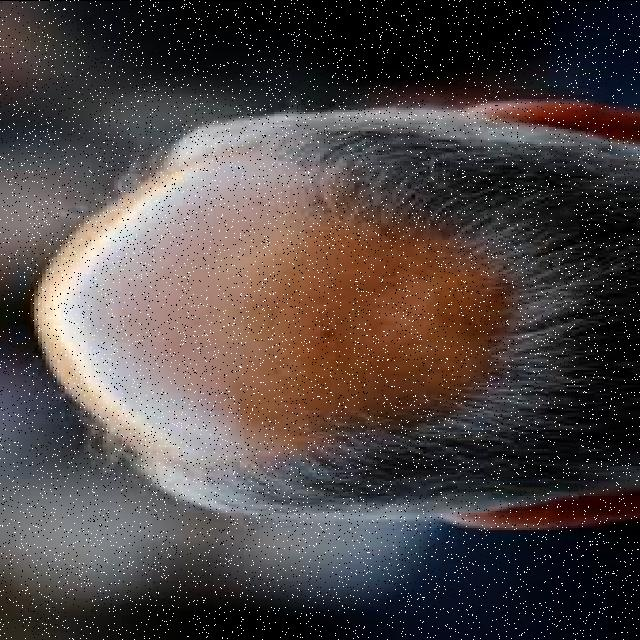Non_Helmet: (14, 78, 636, 558)
